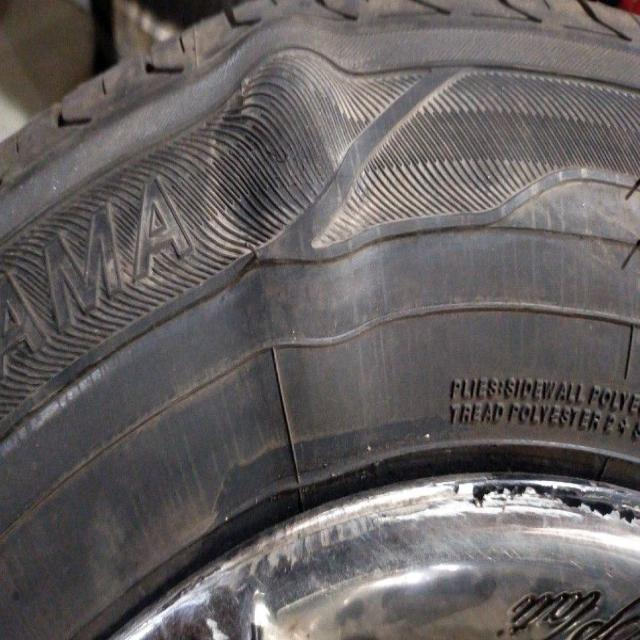Bulge: (212, 9, 380, 480)
